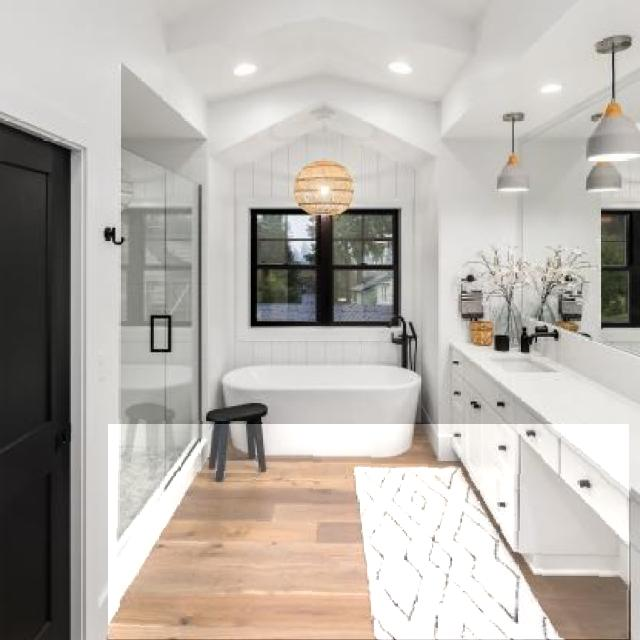floor: (109, 425, 629, 639)
